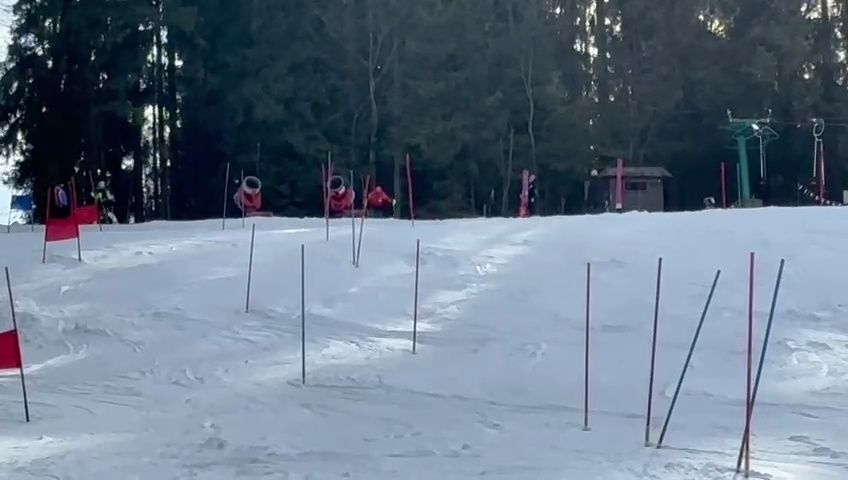gate: (655, 260, 724, 457), (735, 246, 788, 480), (734, 247, 756, 475), (643, 251, 663, 452), (579, 254, 599, 434), (293, 241, 316, 388), (408, 235, 429, 354), (355, 169, 375, 273), (345, 168, 361, 274), (65, 176, 84, 262), (318, 147, 335, 241), (243, 218, 259, 316), (39, 182, 57, 263), (810, 128, 828, 209), (402, 150, 419, 227), (217, 159, 232, 231), (347, 173, 357, 269), (237, 165, 249, 227)
